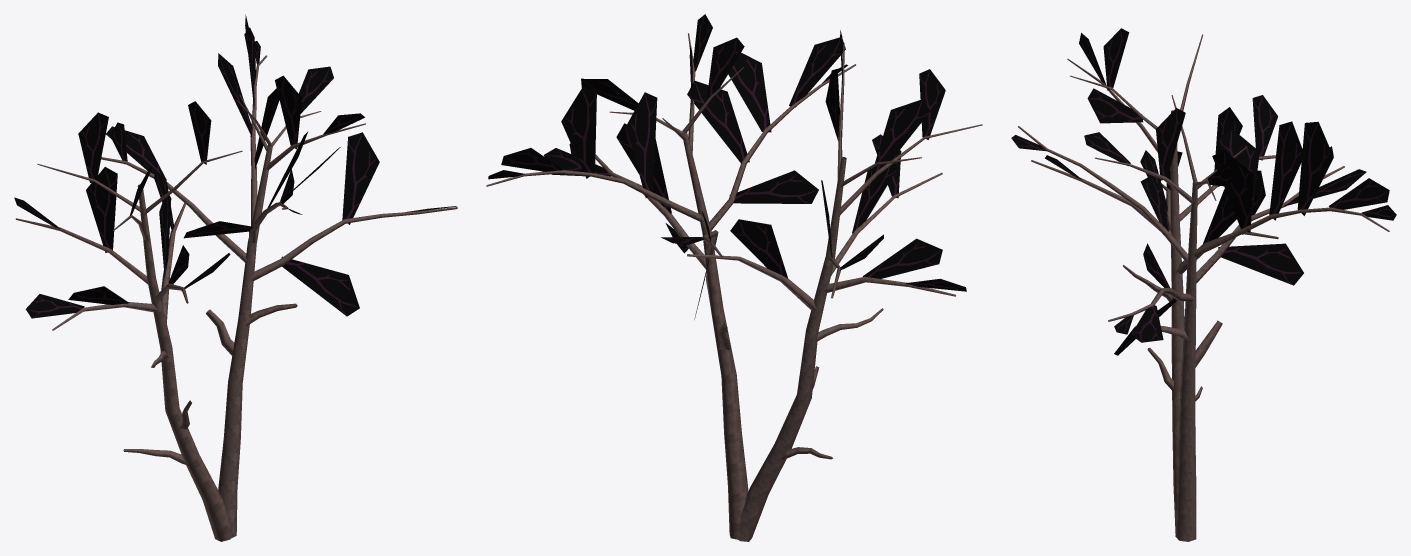
Rendered from Tree_01.fbx.
3 renders of one model, left to right at view 1: azimuth 30°, elevation 25°; view 2: azimuth 150°, elevation 25°; view 3: azimuth 270°, elevation 25°, orthographic. The views are drawn at different scales.
Parts seen in each view (by area): view 1: LOD0; view 2: LOD0; view 3: LOD0.
Part boxes in pixels (x1=…): LOD0: x1=14, y1=14, x2=457, y2=541; LOD0: x1=486, y1=14, x2=982, y2=541; LOD0: x1=1011, y1=28, x2=1396, y2=541.
Size of what is drawn, in the model's own units: 460 by 502 by 365.
